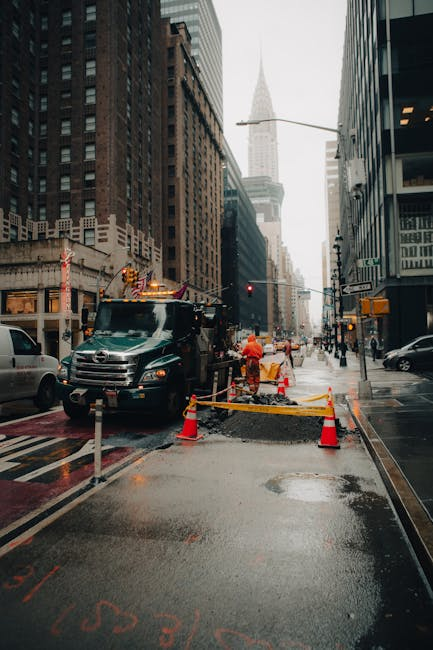traffic_cone: (317, 387, 341, 449), (175, 394, 204, 441), (317, 400, 341, 449), (227, 381, 237, 401), (276, 379, 286, 396), (283, 376, 290, 387)
